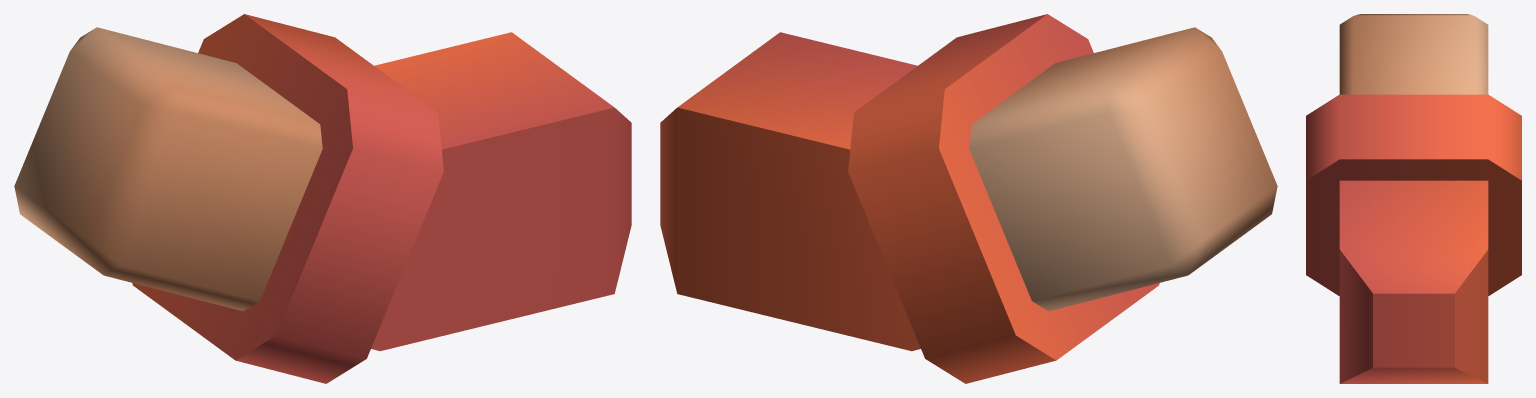
Rendered from hand.obj.
3 views of the same model, side by side, from view 1: azimuth 30°, elevation 25°; view 2: azimuth 150°, elevation 25°; view 3: azimuth 270°, elevation 25° (orthographic). The views are drawn at different scales.
Parts seen in each view (by area): view 1: body-mesh.016; view 2: body-mesh.016; view 3: body-mesh.016.
Part boxes in pixels (left/top/right/bottom): body-mesh.016: left=14, top=14, right=631, bottom=383; body-mesh.016: left=660, top=14, right=1277, bottom=383; body-mesh.016: left=1306, top=14, right=1521, bottom=383.
Bounding box in the file's own units: 34.37 × 19.14 × 16.1.
